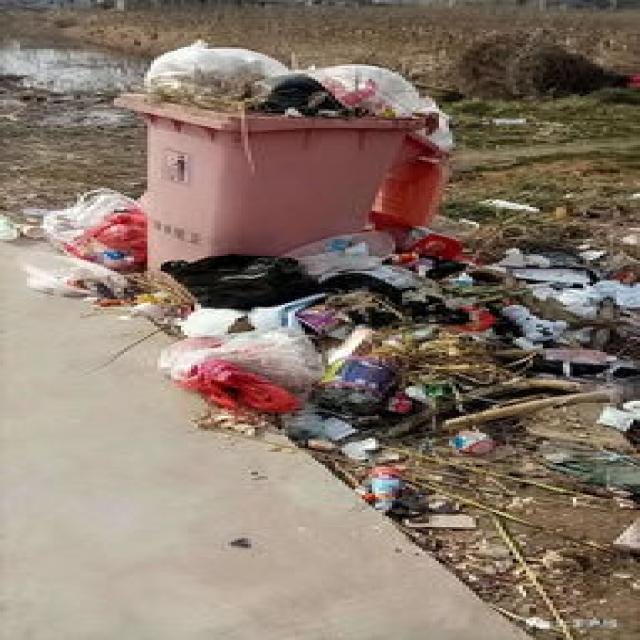garbage: (3, 186, 637, 512)
overflow: (107, 38, 449, 273)
